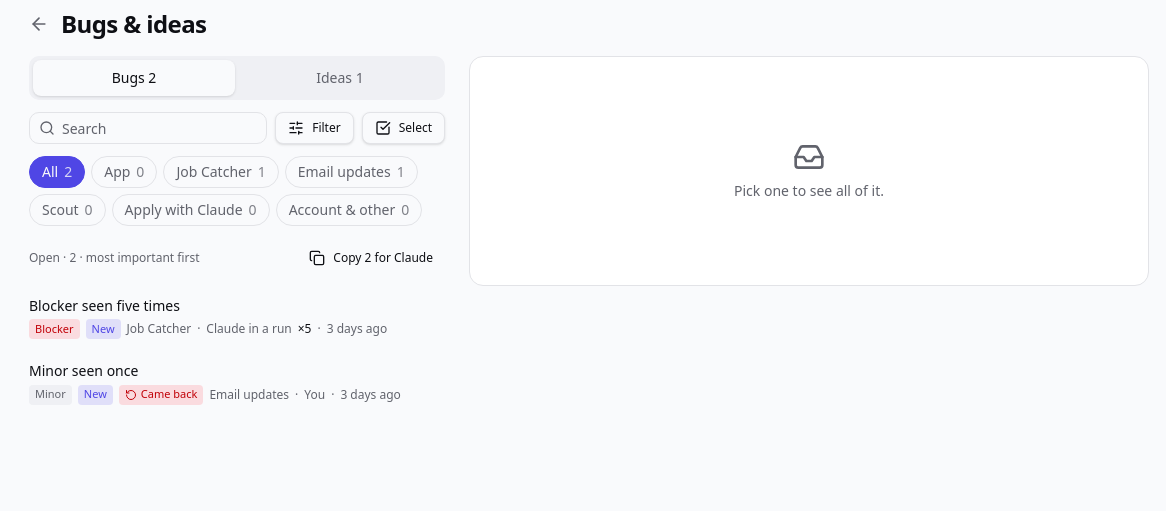
Test: Bugs & ideas › selects several to change their status or copy them
Click the button "Select".
click(403, 128)  # box top-left (362, 112), bottom-right (445, 144)
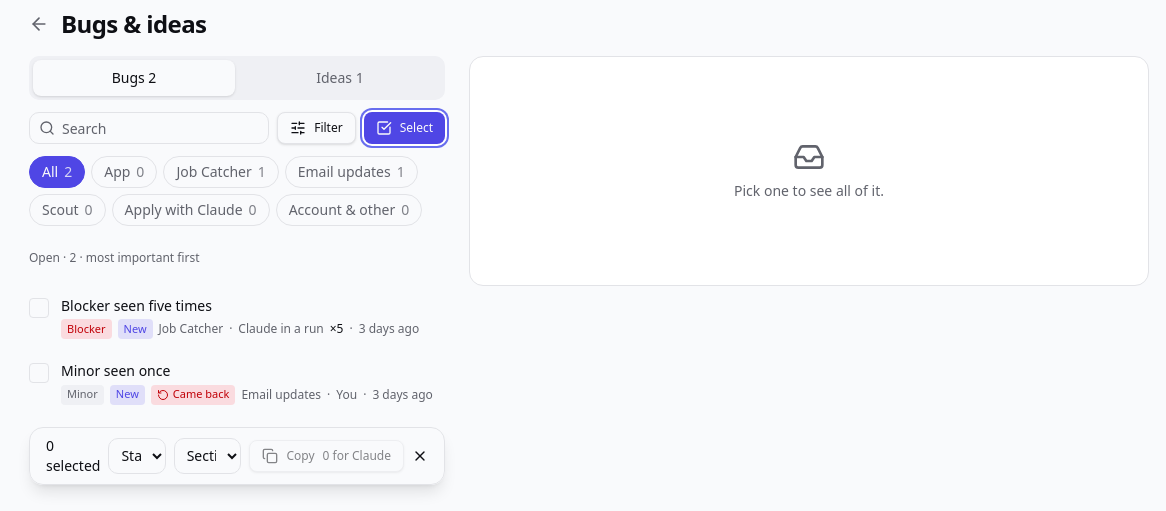
Click the text "Blocker seen five times".
click(136, 306)  # box top-left (61, 296), bottom-right (212, 315)
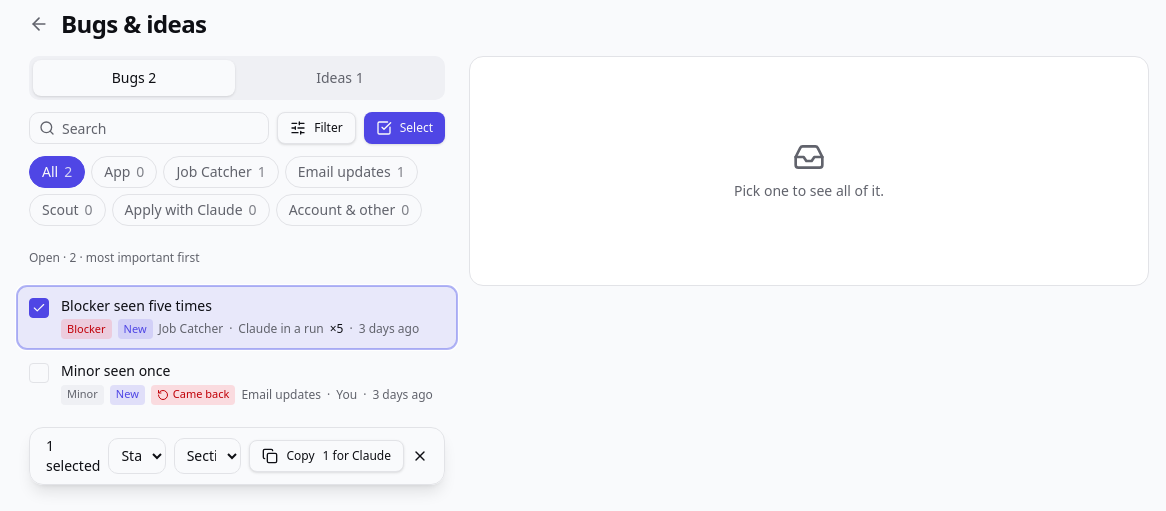
Click the text "Minor seen once".
click(116, 371)  # box top-left (61, 361), bottom-right (170, 381)
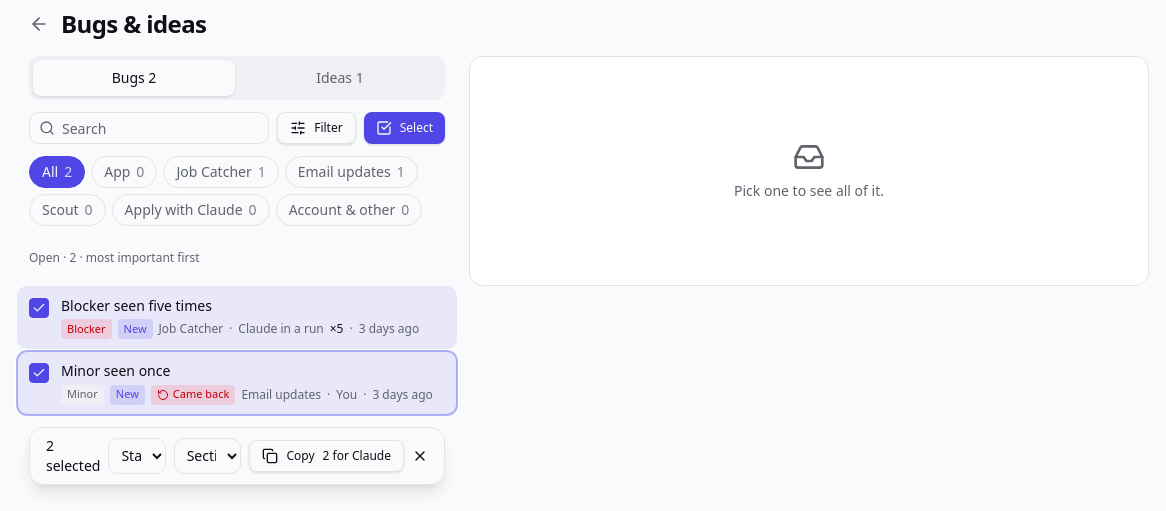
Check: the element named "Selected reports" shows "2 selected", box top-left (29, 426), bottom-right (445, 484)
Click the button "Copy 2 for Claude".
click(327, 456)  # box top-left (250, 440), bottom-right (404, 472)
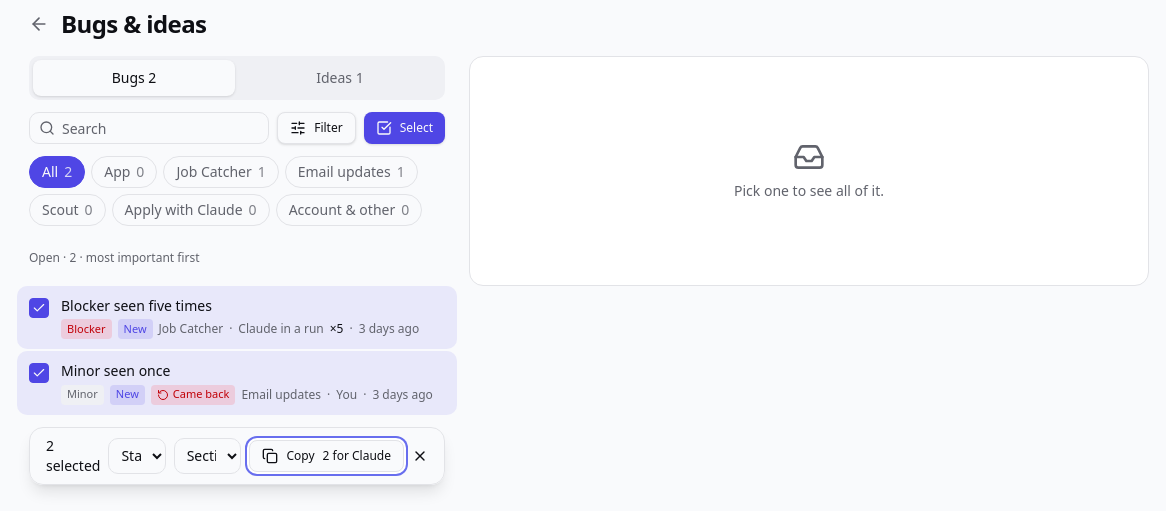
Select "Won't fix" in the dropdown named "Set status" at (137, 456), box top-left (108, 438), bottom-right (166, 474)
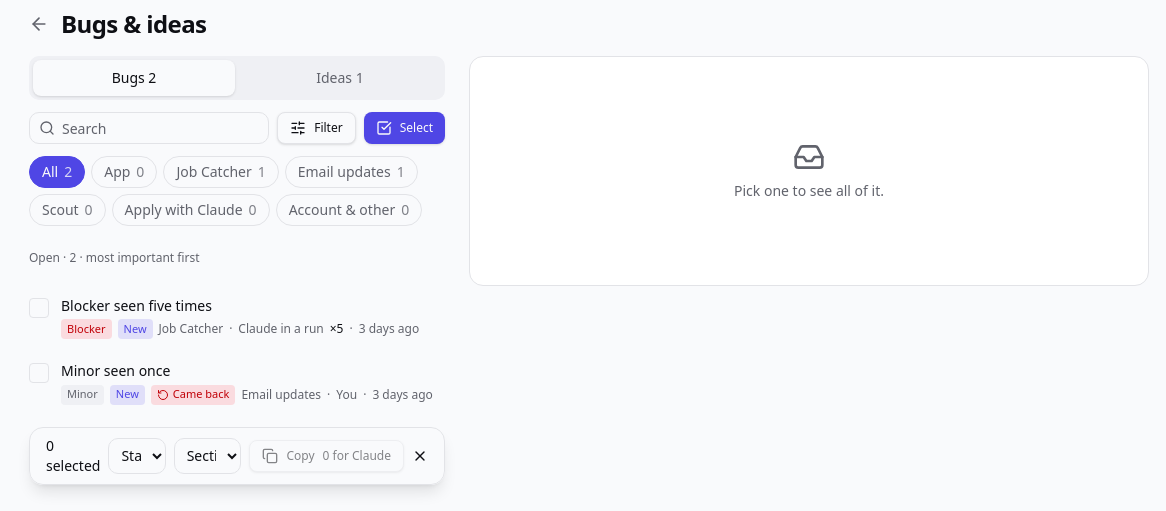
Check: the element named "Selected reports" shows "0 selected", box top-left (29, 426), bottom-right (445, 484)
